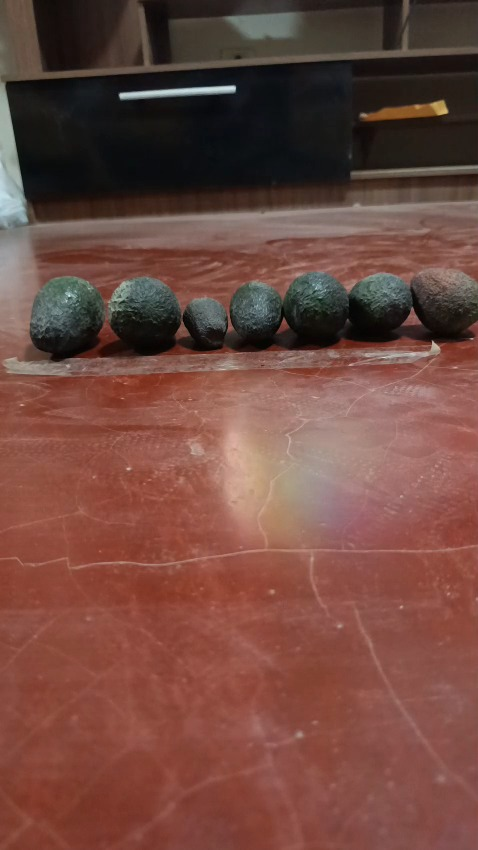Primera: (29, 274, 105, 355), (106, 275, 182, 348), (282, 271, 350, 340)
Segunda: (409, 267, 476, 337), (346, 272, 413, 337), (229, 279, 283, 343)
Tercera: (183, 297, 227, 349)
